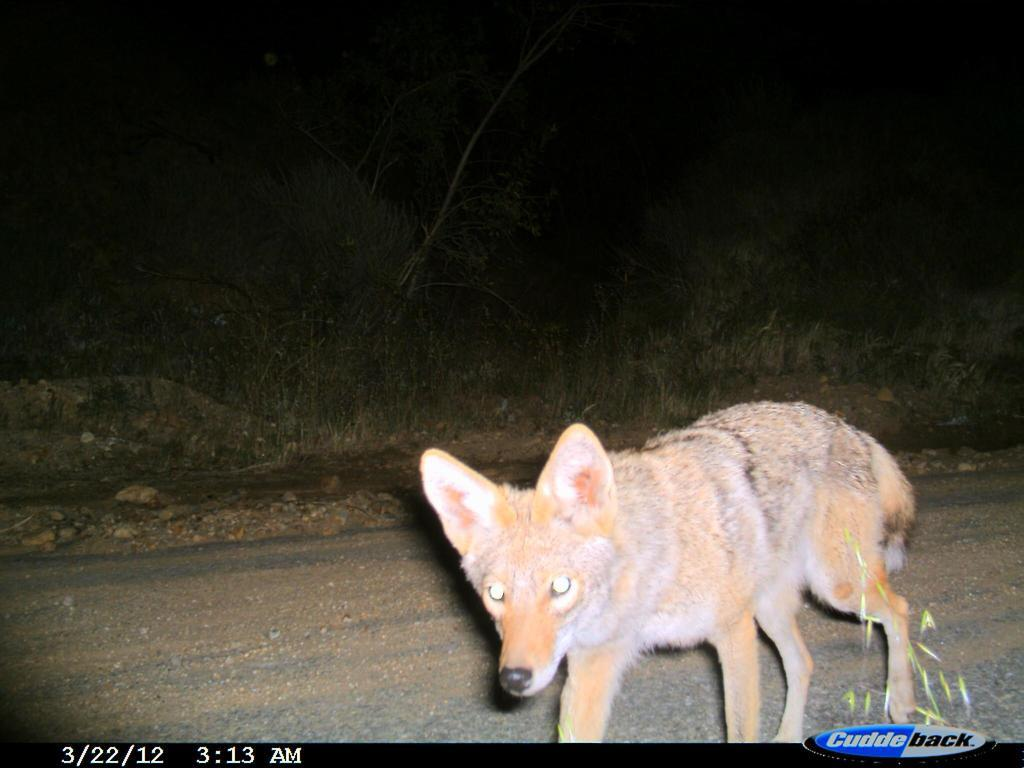coyote: (415, 385, 932, 743)
